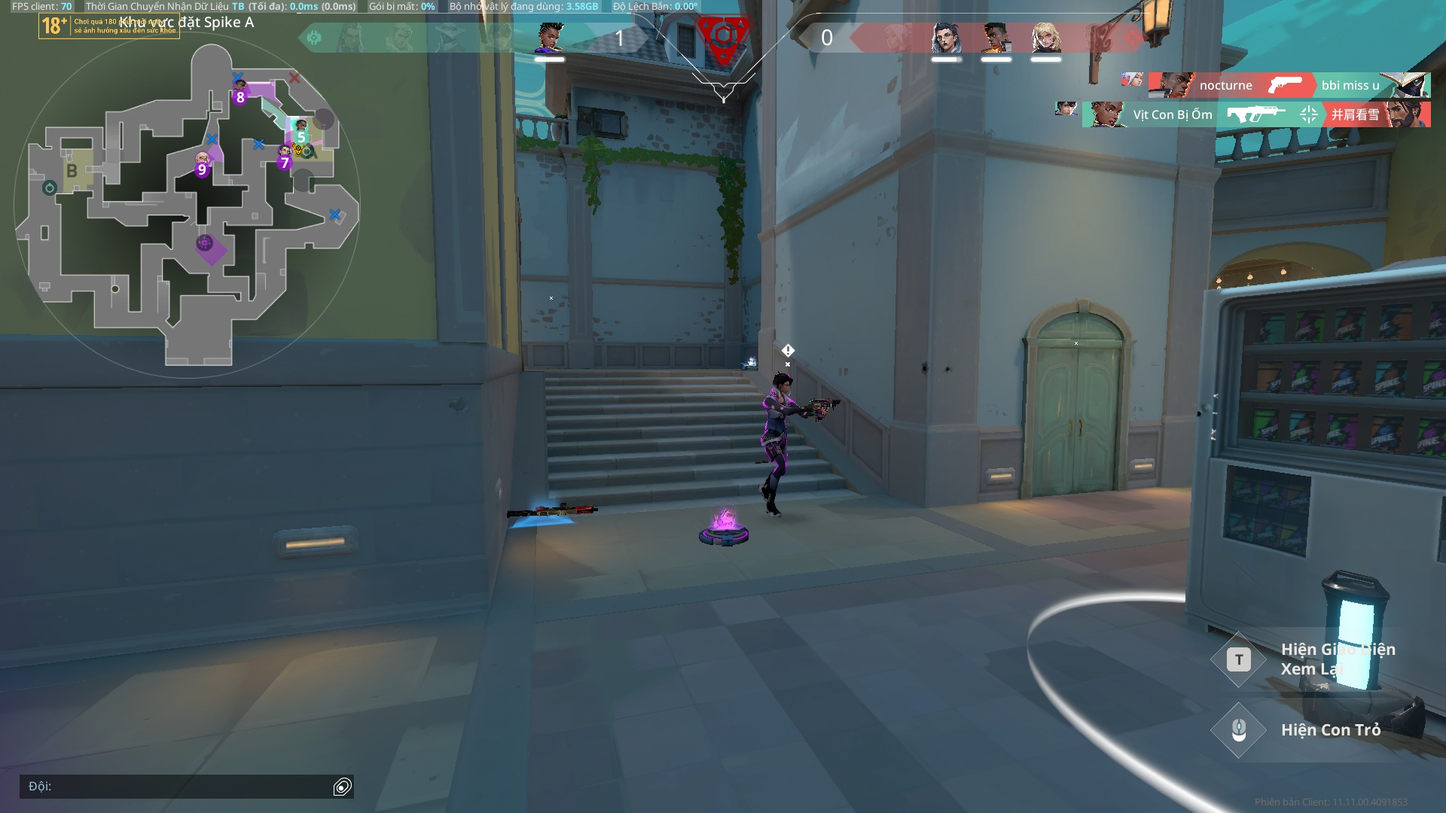body: (764, 390, 791, 430)
head: (773, 372, 792, 393)
